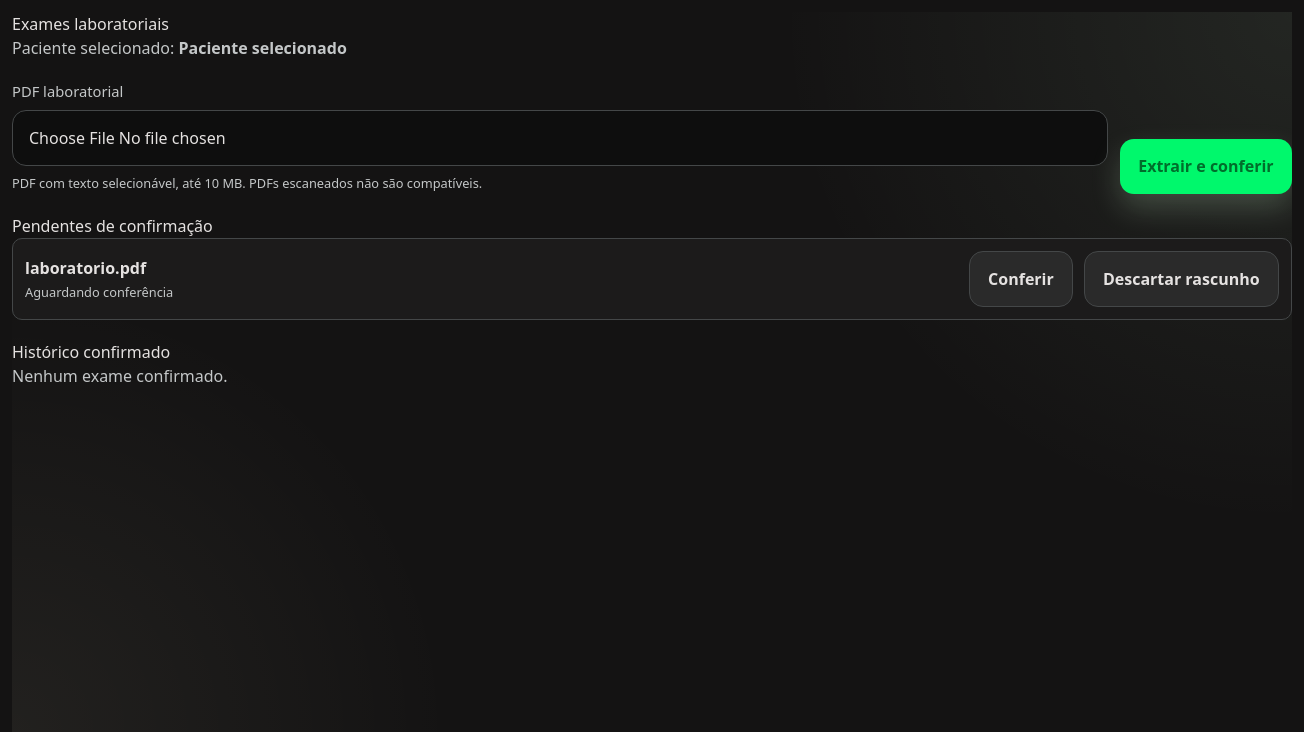
Scenario: trocar paciente ignora uma extração atrasada do paciente anterior
What coordinates should you click on to do the following:
click the button "Conferir"
I would click on:
 (1021, 279)
Its box is [969,251,1073,307].
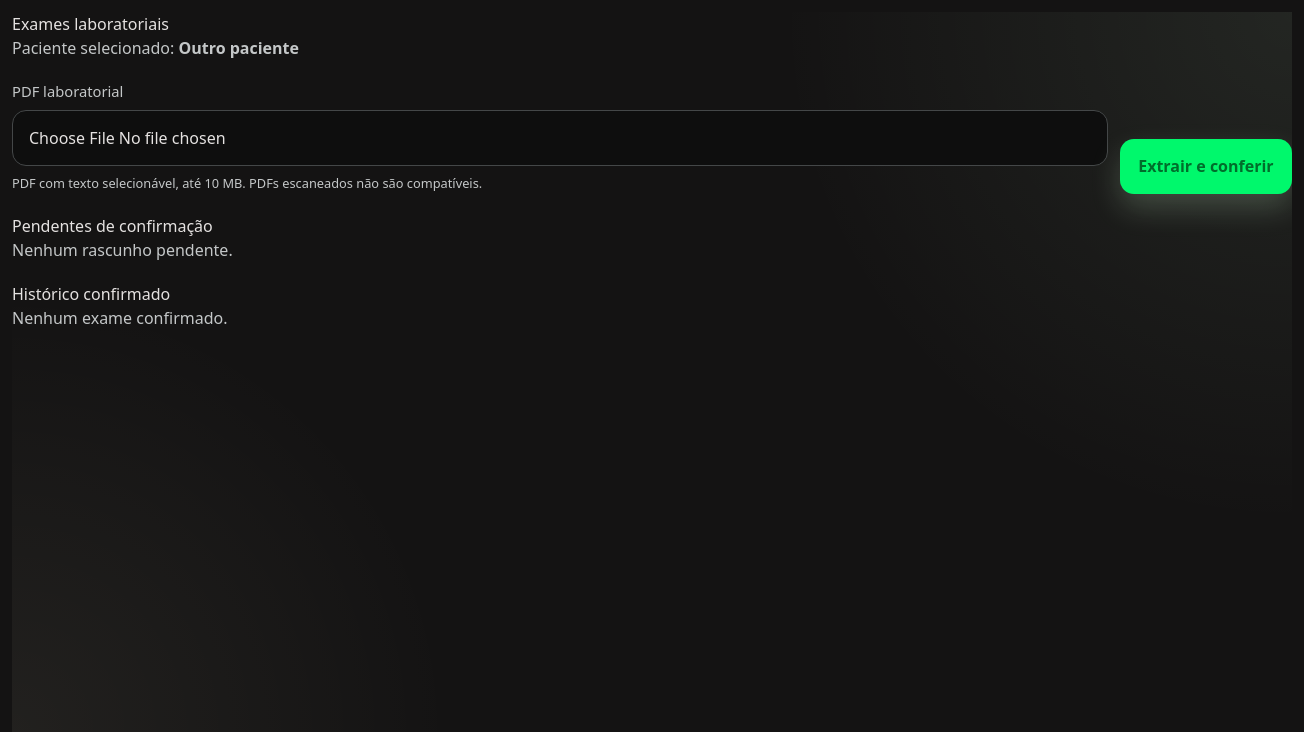
Expected: the text "Outro paciente" is shown, [178,37,299,59]
Expected: the text "laboratorio.pdf" is gone
